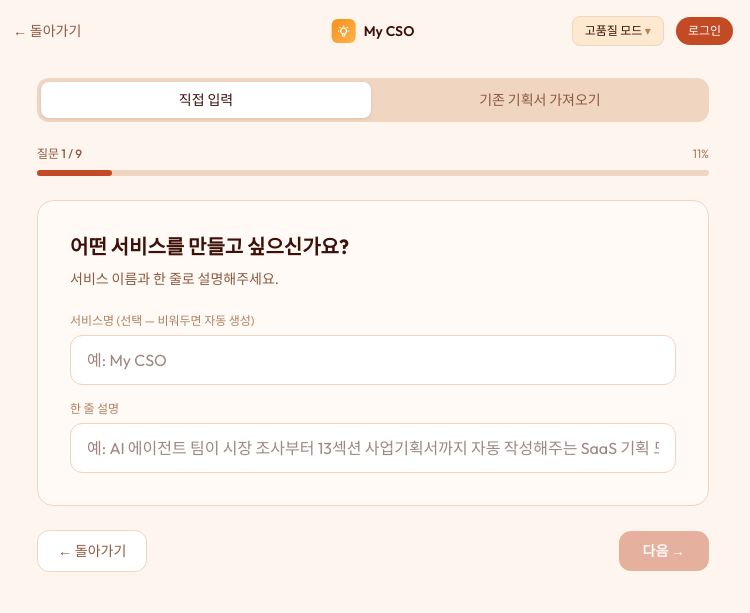
Test: Guided Page Integration › import paste: analyze button enables with text and provider
Click the button "기존 기획서 가져오기". click: (540, 100)
box: [375,82,705,118]
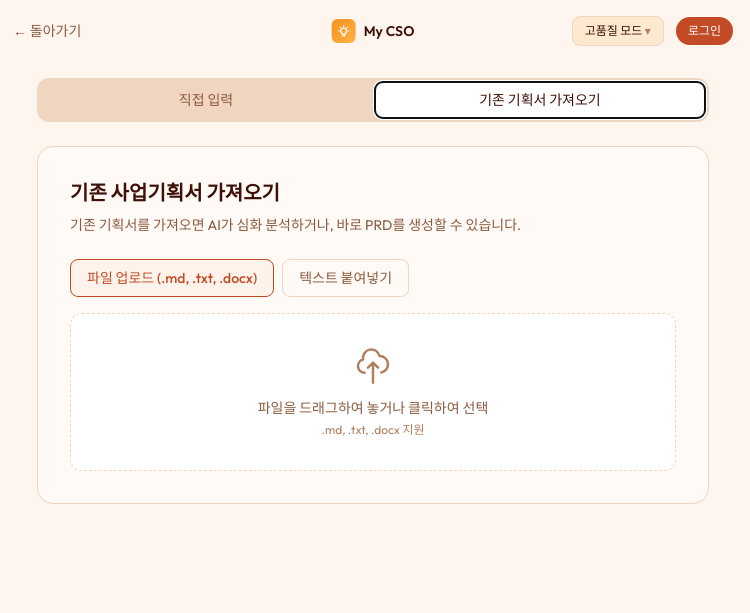
Click the button "텍스트 붙여넣기". click: (346, 278)
box: [282,259,409,297]
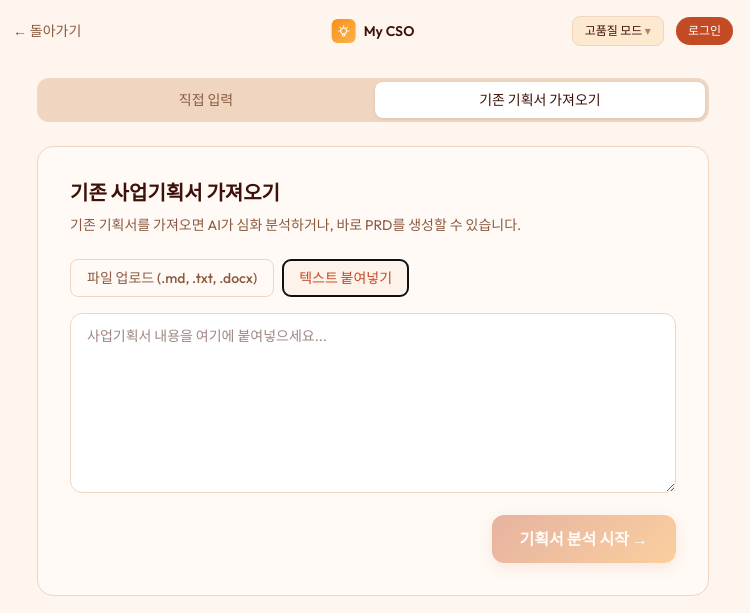
Type "# 테스트 기획서" into the text box with placeholder "사업기획서 내용을 여기에 붙여넣으세요...". click: (373, 403)
box: [70,313,676,493]
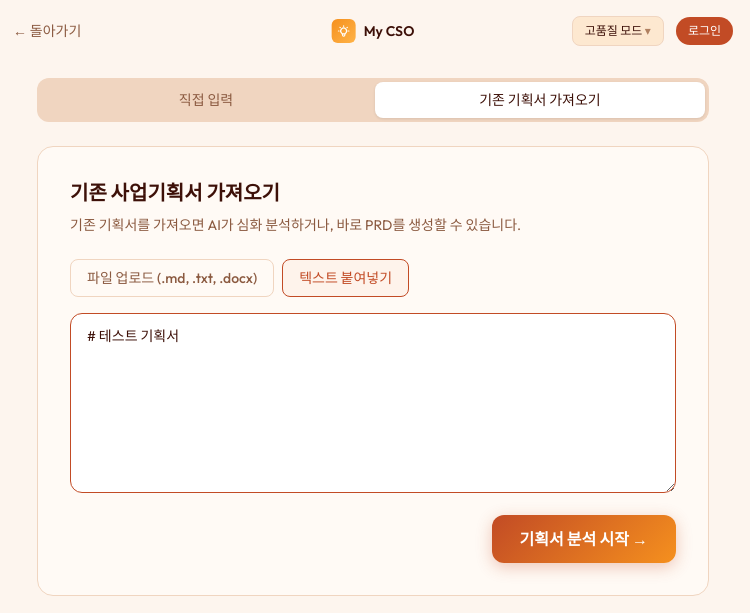
Expected: the button "기획서 분석 시작 →" is enabled, [492,515,676,563]
